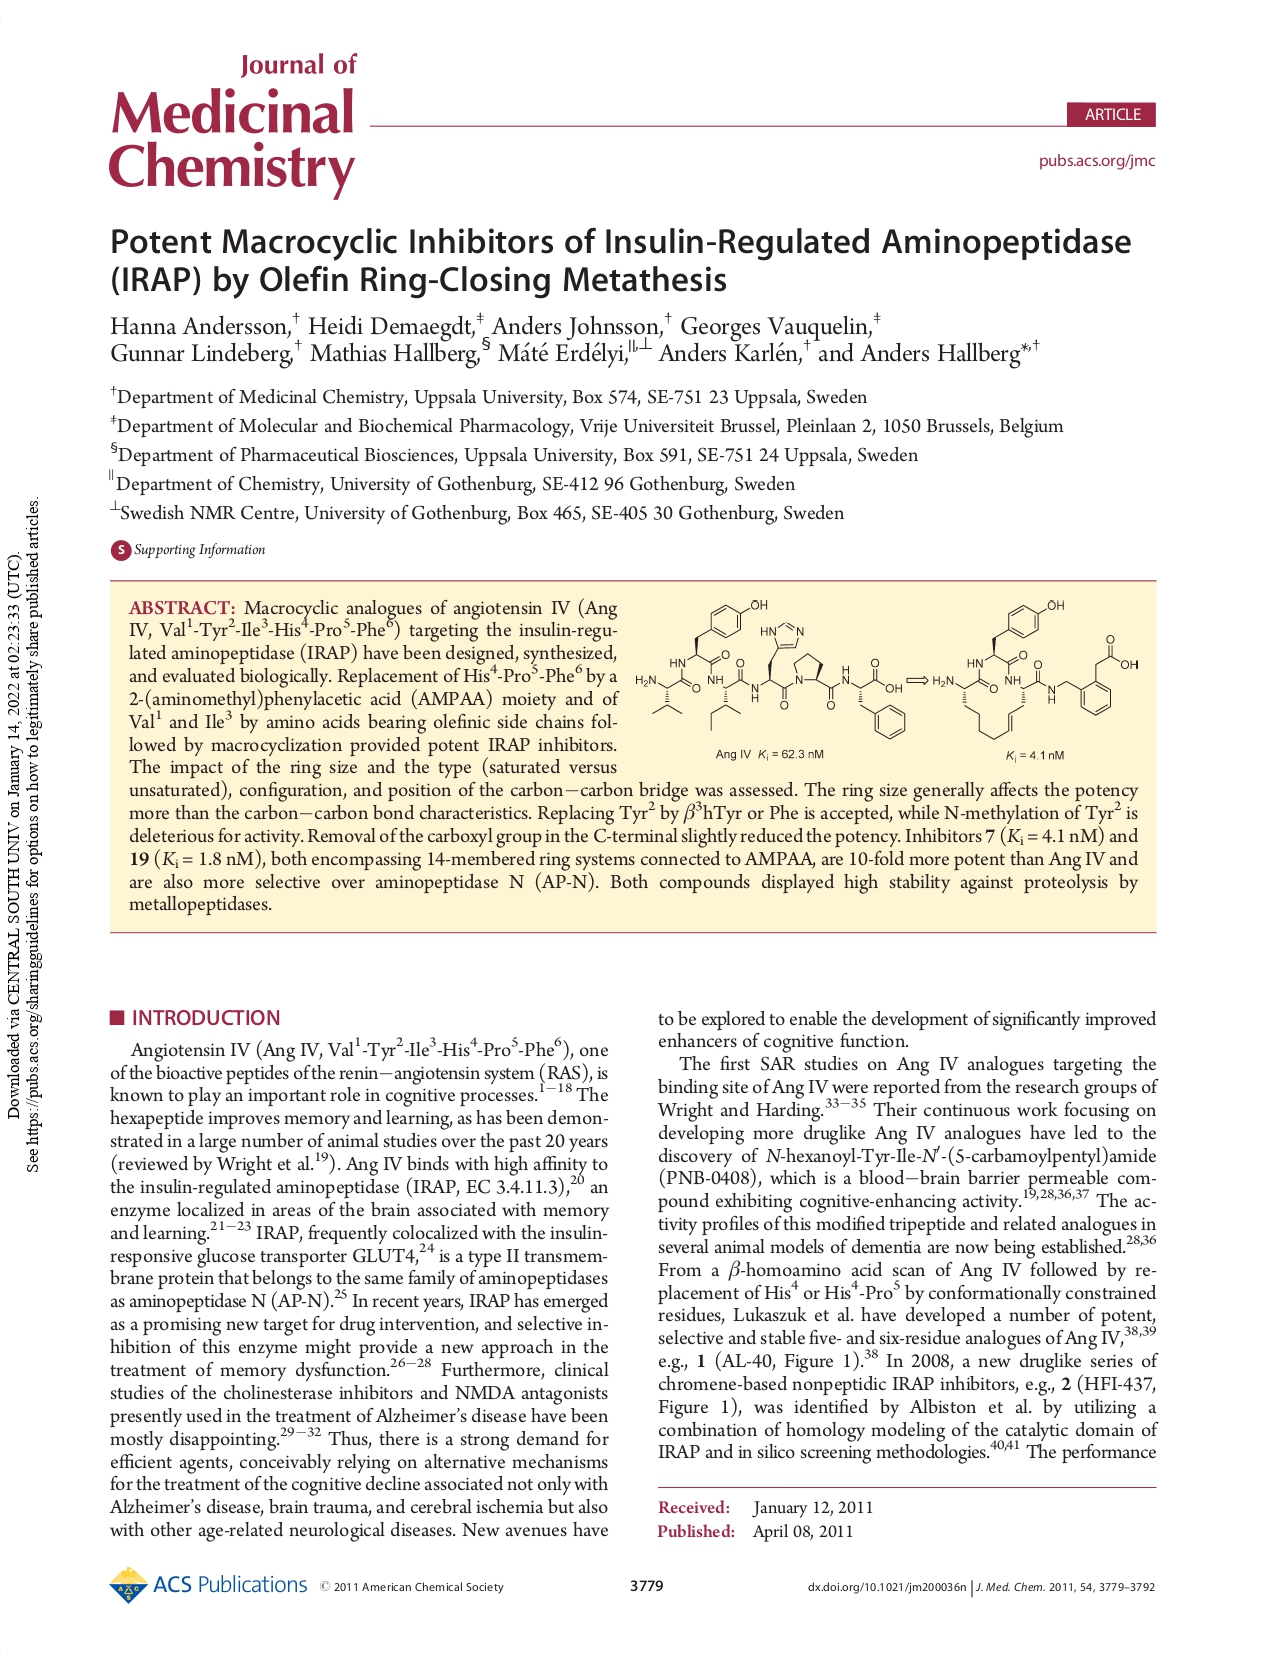exist_molecular: (633, 596, 908, 741), (930, 596, 1142, 743)
